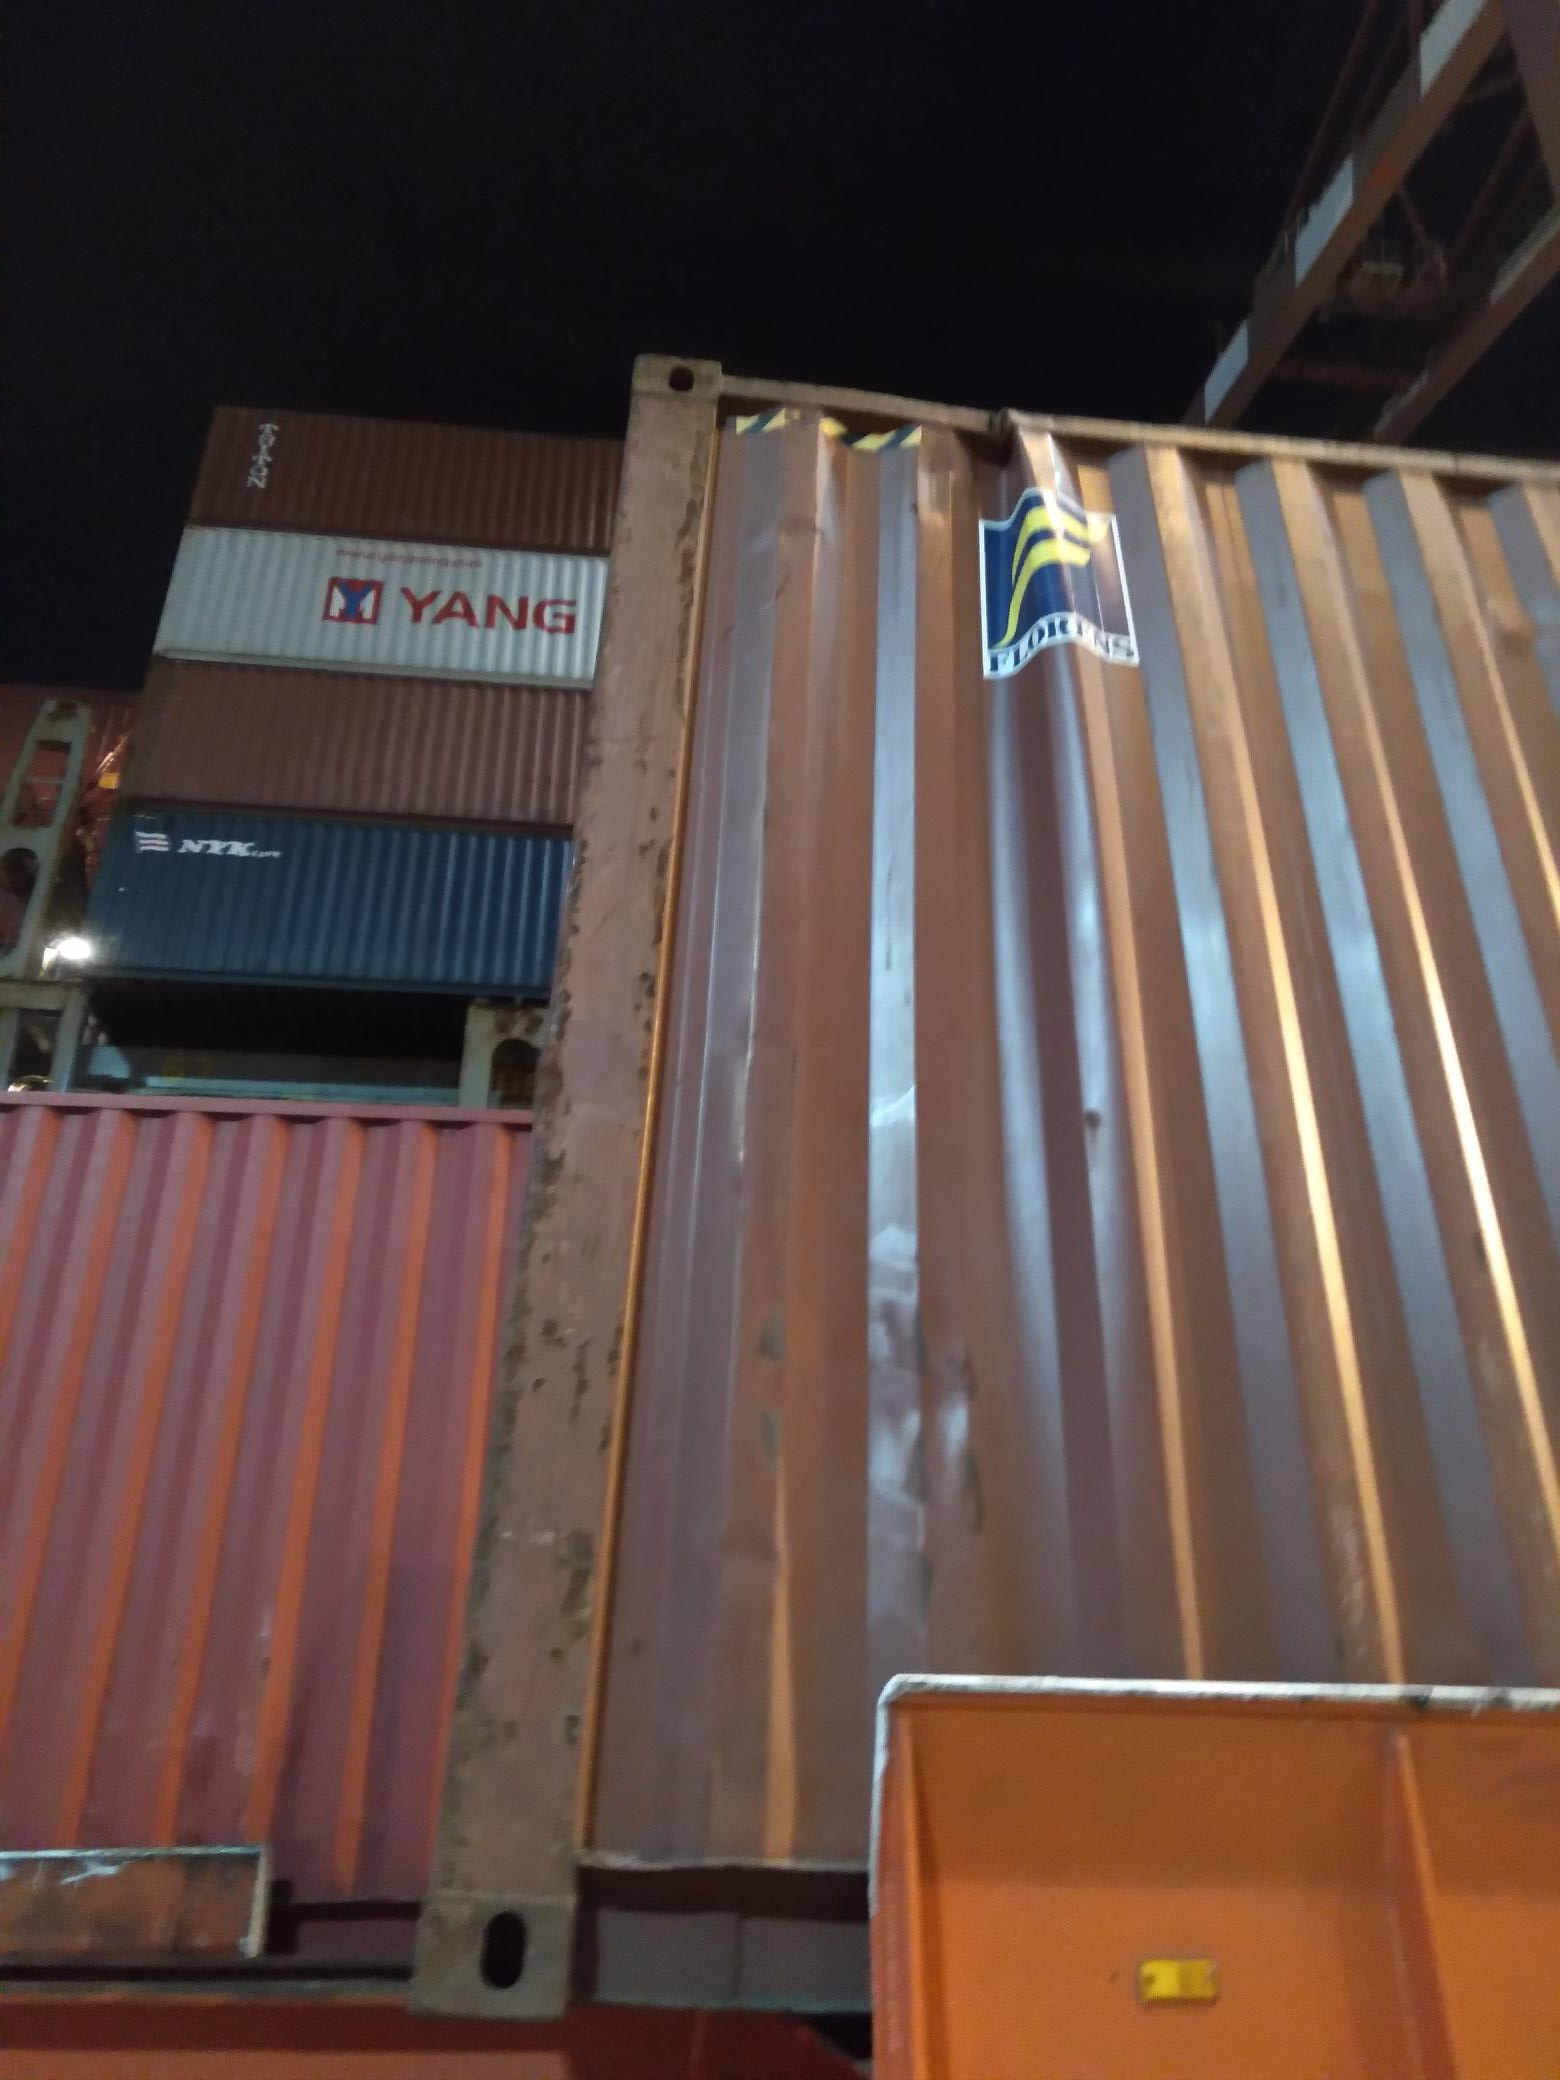moderate: (900, 431, 1204, 794), (734, 1264, 1031, 1579)
